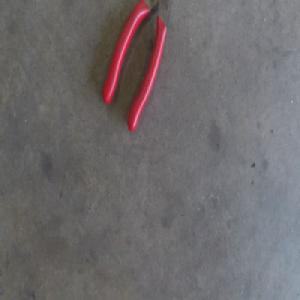Pliers: (101, 0, 171, 131)
